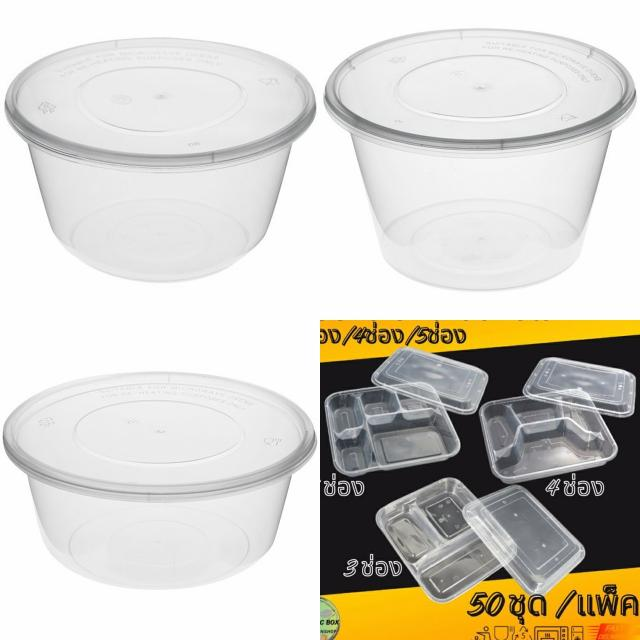Single-Use-Plastic: (325, 29, 636, 289), (5, 39, 315, 281), (4, 372, 315, 589), (376, 478, 501, 602), (462, 485, 585, 595), (325, 386, 460, 476), (480, 396, 618, 483), (371, 348, 489, 414), (522, 358, 636, 418)
